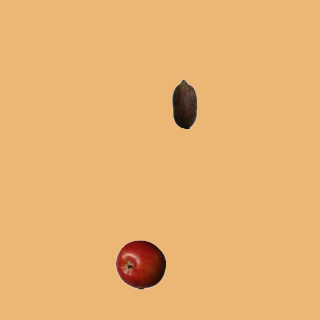Apple Braeburn: (115, 239, 165, 289)
Nut Pecan: (159, 78, 209, 128)
